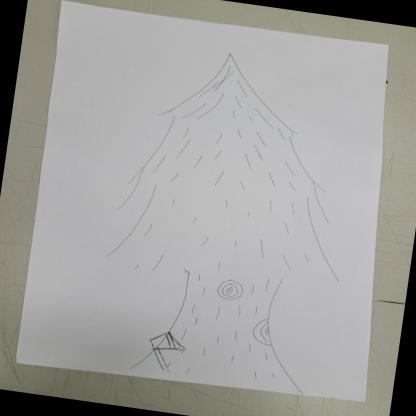crown_dizzy: (109, 36, 370, 297)
knot: (249, 314, 280, 345), (214, 275, 247, 304)
trunk_bark: (166, 279, 290, 347)
